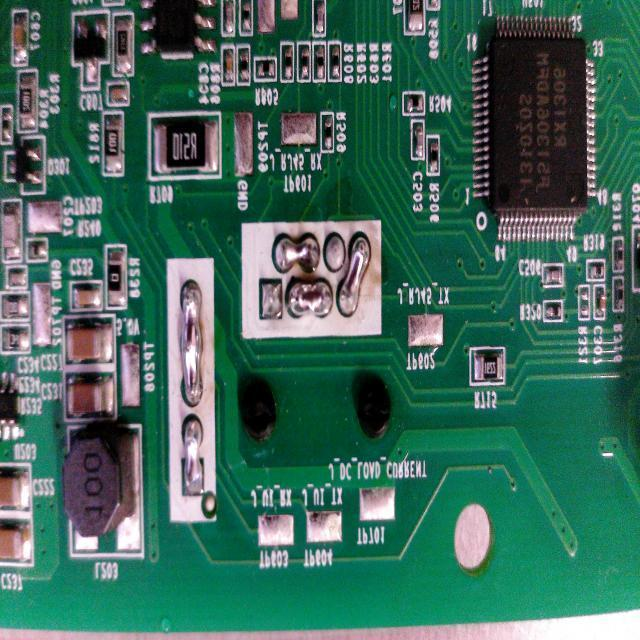Soldering shorted: (178, 275, 205, 406), (337, 232, 372, 324), (283, 277, 333, 325), (270, 226, 320, 273), (180, 414, 206, 499)
